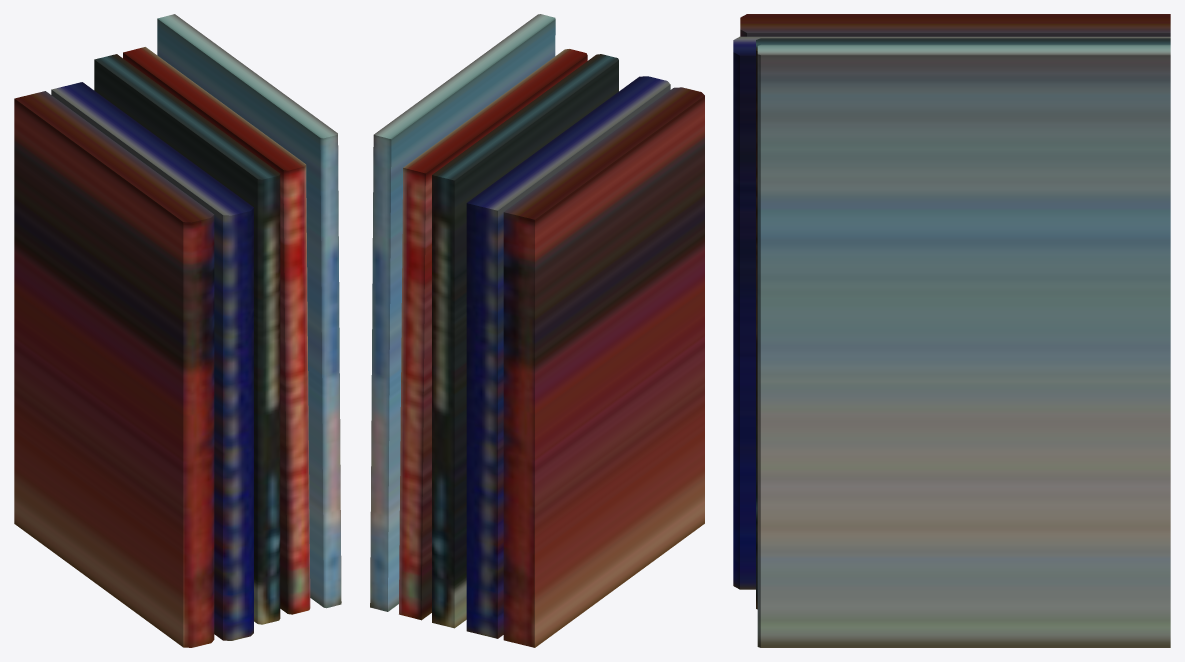
Rendered from Books 5.FBX.
3 views of the same model, side by side, from view 1: azimuth 30°, elevation 25°; view 2: azimuth 150°, elevation 25°; view 3: azimuth 270°, elevation 25° (orthographic). The views are drawn at different scales.
Parts seen in each view (by area): view 1: Books1; view 2: Books1; view 3: Books1.
Part boxes in pixels (box(x1,y1,x2,y2)): Books1: box(14, 14, 341, 647); Books1: box(370, 14, 704, 647); Books1: box(733, 14, 1170, 647).
Bounding box in the file's own units: 9.45 × 17.41 × 25.95.
